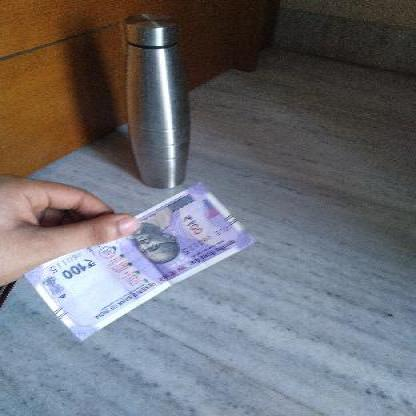New100Front: (24, 183, 252, 334)
